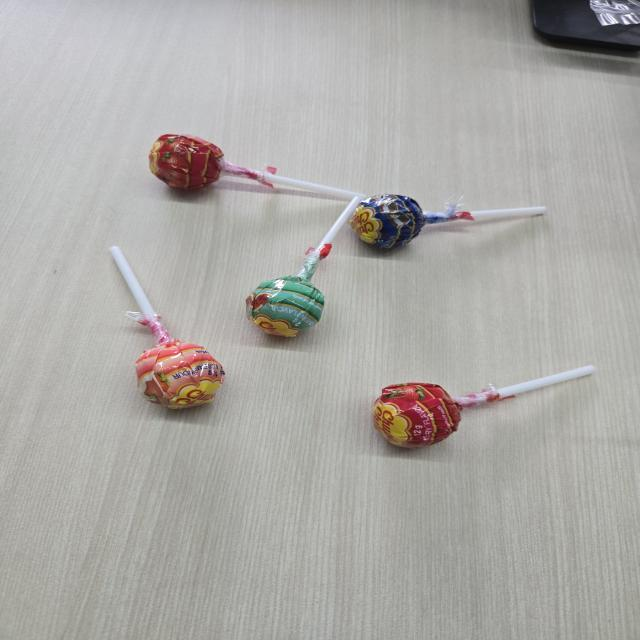lollipop: (369, 356, 603, 454), (107, 238, 229, 418), (244, 194, 361, 348), (146, 131, 359, 203), (350, 194, 550, 260)
